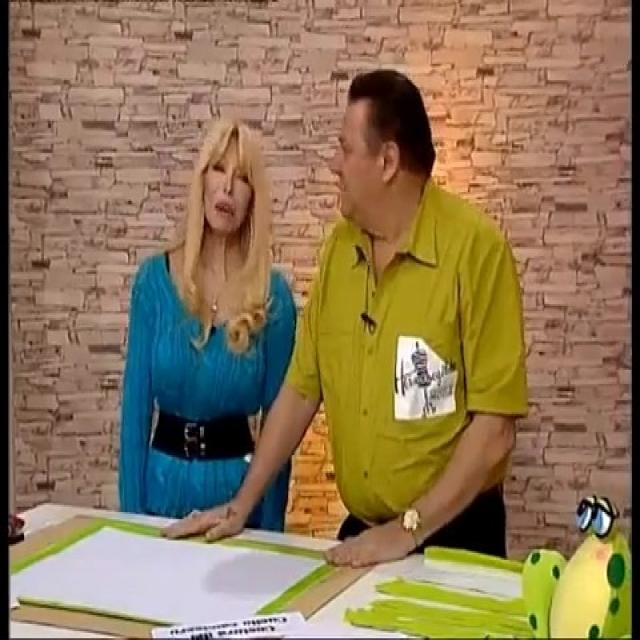shirt: (283, 173, 528, 536)
